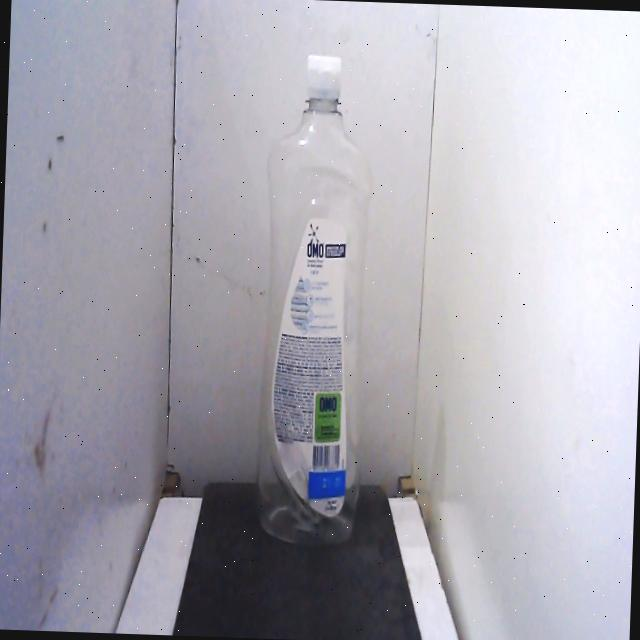plastico: (246, 32, 386, 562)
